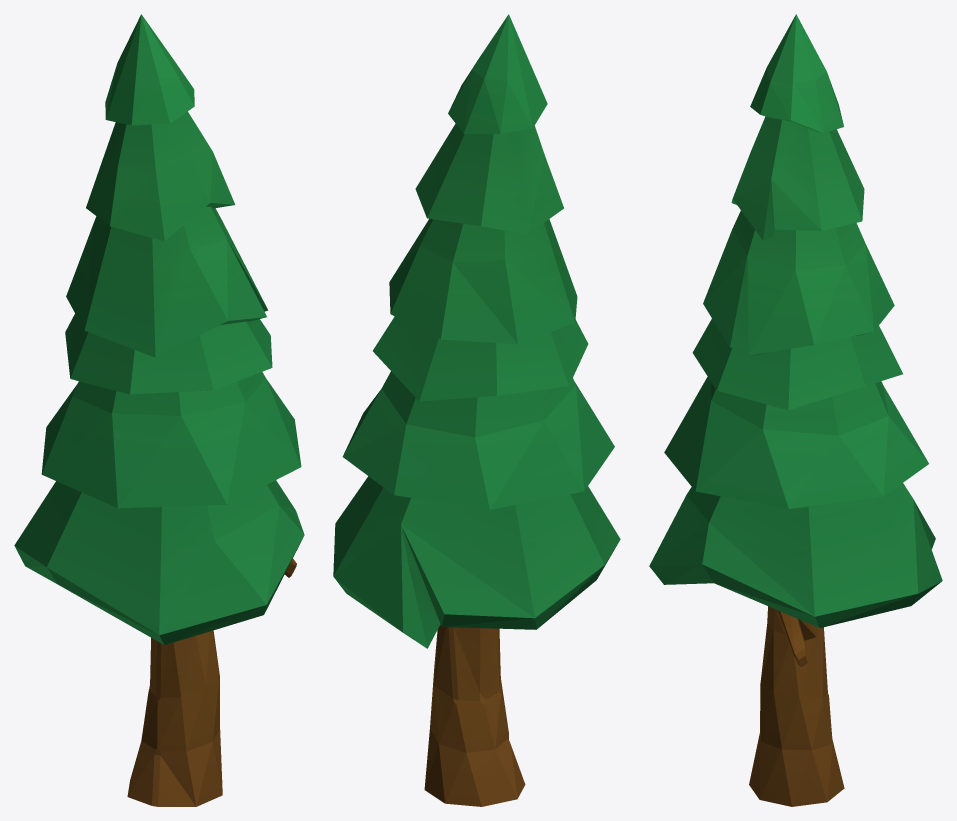
File: tree_fir_slim.glb
The picture shows the model from 3 angles, left to right: view 1: azimuth 30°, elevation 25°; view 2: azimuth 150°, elevation 25°; view 3: azimuth 270°, elevation 25°; orthographic projection. The views are drawn at different scales.
Visible parts, largest first — view 1: Tree_7_AA; view 2: Tree_7_AA; view 3: Tree_7_AA.
Boxes of the visible parts, bbox=[...] form: Tree_7_AA: bbox=[14, 14, 304, 806]; Tree_7_AA: bbox=[333, 14, 620, 806]; Tree_7_AA: bbox=[649, 14, 942, 806].
Size of the model in its own units: 1.3 by 3.75 by 1.32.
1 material, 1 textured.
